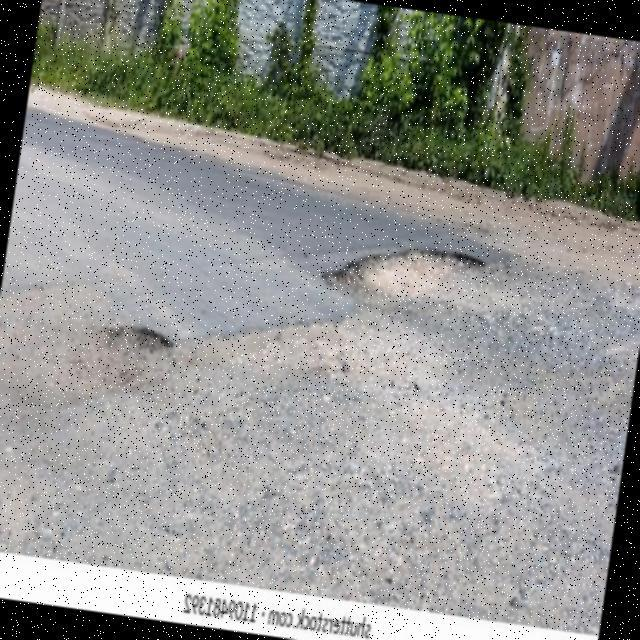Pothole: (0, 287, 175, 408), (323, 251, 476, 297)
